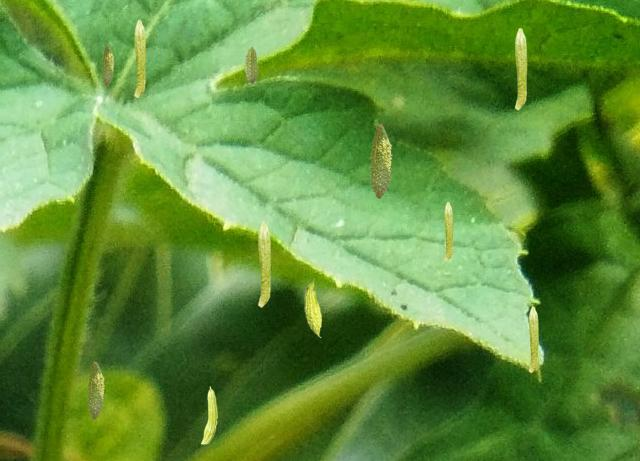ampalaya: (368, 123, 393, 199), (257, 221, 271, 307), (86, 361, 105, 420), (304, 277, 322, 338), (514, 27, 527, 110), (200, 386, 218, 444), (134, 19, 146, 98), (528, 306, 539, 373), (101, 44, 114, 87), (244, 46, 258, 85), (444, 201, 453, 261)
